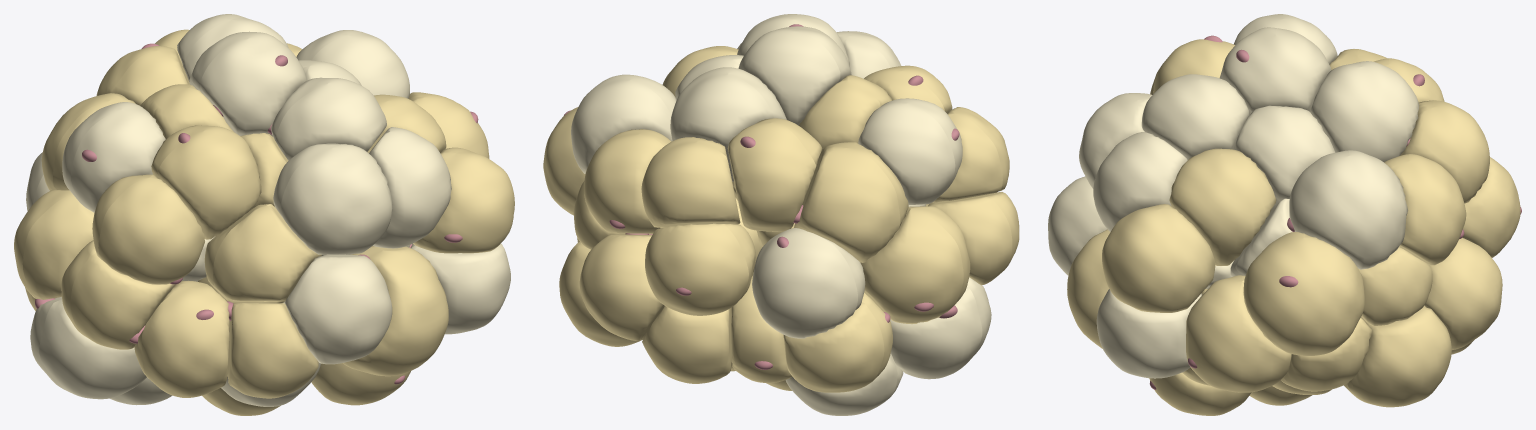
The model's file is adipose-tissue.glb.
3 renders of one model, left to right at view 1: azimuth 30°, elevation 25°; view 2: azimuth 150°, elevation 25°; view 3: azimuth 270°, elevation 25°, orthographic. The views are drawn at different scales.
Visible parts, largest first — view 1: adipocyte_34, adipocyte_47, adipocyte_46, adipocyte_44, adipocyte_38, adipocyte_52, adipocyte_29, adipocyte_20, adipocyte_22, adipocyte_50, adipocyte_12, adipocyte_45 (+19 smaller); view 2: adipocyte_37, adipocyte_18, adipocyte_32, adipocyte_51, adipocyte_41, adipocyte_22, adipocyte_54, adipocyte_23, adipocyte_52, adipocyte_30, adipocyte_07, adipocyte_03 (+16 smaller); view 3: adipocyte_05, adipocyte_31, adipocyte_45, adipocyte_24, adipocyte_07, adipocyte_17, adipocyte_36, adipocyte_52, adipocyte_28, adipocyte_55, adipocyte_43, adipocyte_03 (+16 smaller).
Part boxes in pixels (x1=…): adipocyte_34: x1=273, y1=143, x2=392, y2=254; adipocyte_47: x1=92, y1=174, x2=204, y2=284; adipocyte_46: x1=284, y1=254, x2=392, y2=364; adipocyte_44: x1=134, y1=280, x2=229, y2=397; adipocyte_38: x1=151, y1=125, x2=261, y2=239; adipocyte_52: x1=189, y1=31, x2=306, y2=136; adipocyte_29: x1=204, y1=204, x2=321, y2=301; adipocyte_20: x1=343, y1=246, x2=448, y2=376; adipocyte_22: x1=62, y1=102, x2=165, y2=212; adipocyte_50: x1=227, y1=303, x2=318, y2=398; adipocyte_12: x1=61, y1=240, x2=175, y2=349; adipocyte_45: x1=413, y1=147, x2=514, y2=253; adipocyte_37: x1=752, y1=228, x2=865, y2=338; adipocyte_18: x1=860, y1=206, x2=970, y2=324; adipocyte_32: x1=794, y1=142, x2=908, y2=262; adipocyte_51: x1=645, y1=223, x2=755, y2=315; adipocyte_41: x1=727, y1=118, x2=822, y2=231; adipocyte_22: x1=858, y1=98, x2=962, y2=204; adipocyte_54: x1=641, y1=137, x2=740, y2=227; adipocyte_23: x1=783, y1=292, x2=892, y2=392; adipocyte_52: x1=738, y1=26, x2=851, y2=125; adipocyte_30: x1=579, y1=234, x2=664, y2=341; adipocyte_07: x1=670, y1=67, x2=786, y2=181; adipocyte_03: x1=584, y1=129, x2=671, y2=233; adipocyte_05: x1=1243, y1=232, x2=1364, y2=355; adipocyte_31: x1=1289, y1=150, x2=1407, y2=269; adipocyte_45: x1=1102, y1=204, x2=1215, y2=312; adipocyte_24: x1=1169, y1=148, x2=1276, y2=265; adipocyte_07: x1=1310, y1=61, x2=1419, y2=162; adipocyte_17: x1=1186, y1=275, x2=1291, y2=392; adipocyte_36: x1=1344, y1=305, x2=1451, y2=407; adipocyte_52: x1=1219, y1=27, x2=1331, y2=115; adipocyte_28: x1=1141, y1=74, x2=1248, y2=159; adipocyte_55: x1=1096, y1=289, x2=1202, y2=378; adipocyte_43: x1=1093, y1=132, x2=1187, y2=231; adipocyte_03: x1=1384, y1=154, x2=1466, y2=265.
Bounding box in the file's own units: 0.1441 × 0.1147 × 0.1351.
